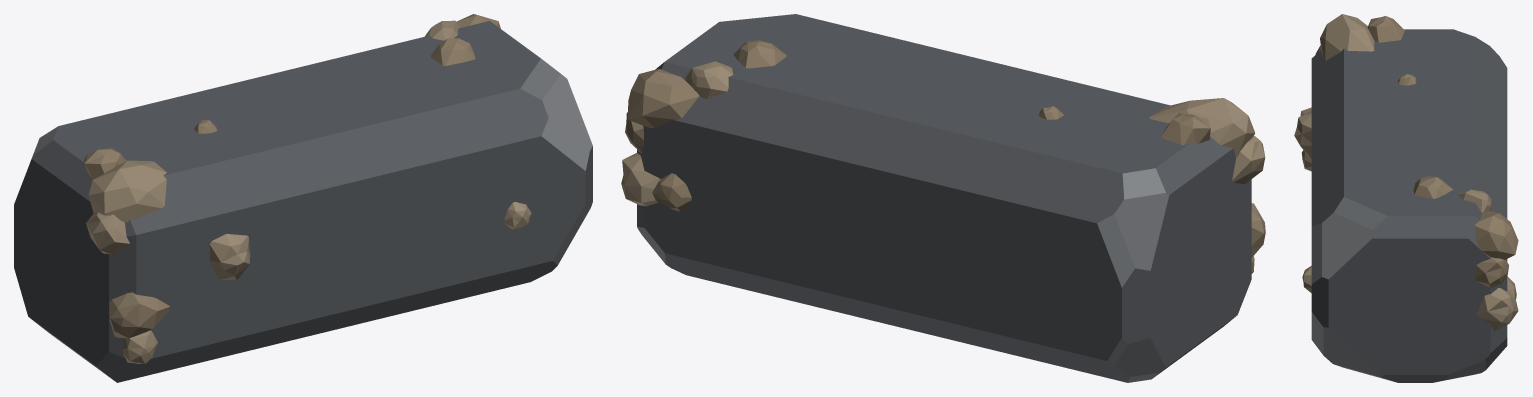
File: fallen-ashlar-block-87824e.glb
The picture shows the model from 3 angles, left to right: view 1: azimuth 30°, elevation 25°; view 2: azimuth 150°, elevation 25°; view 3: azimuth 270°, elevation 25°; orthographic projection. The views are drawn at different scales.
Size of the model in its own units: 0.6535 by 0.2624 by 0.292.
